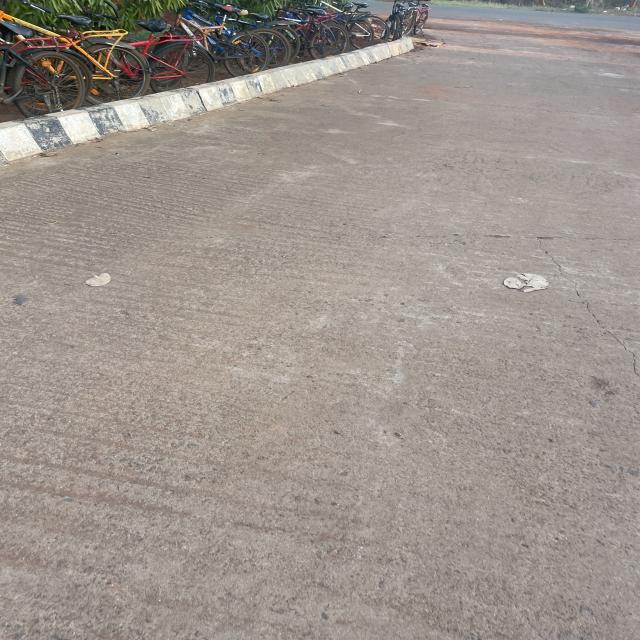D40: (68, 405, 253, 572)
